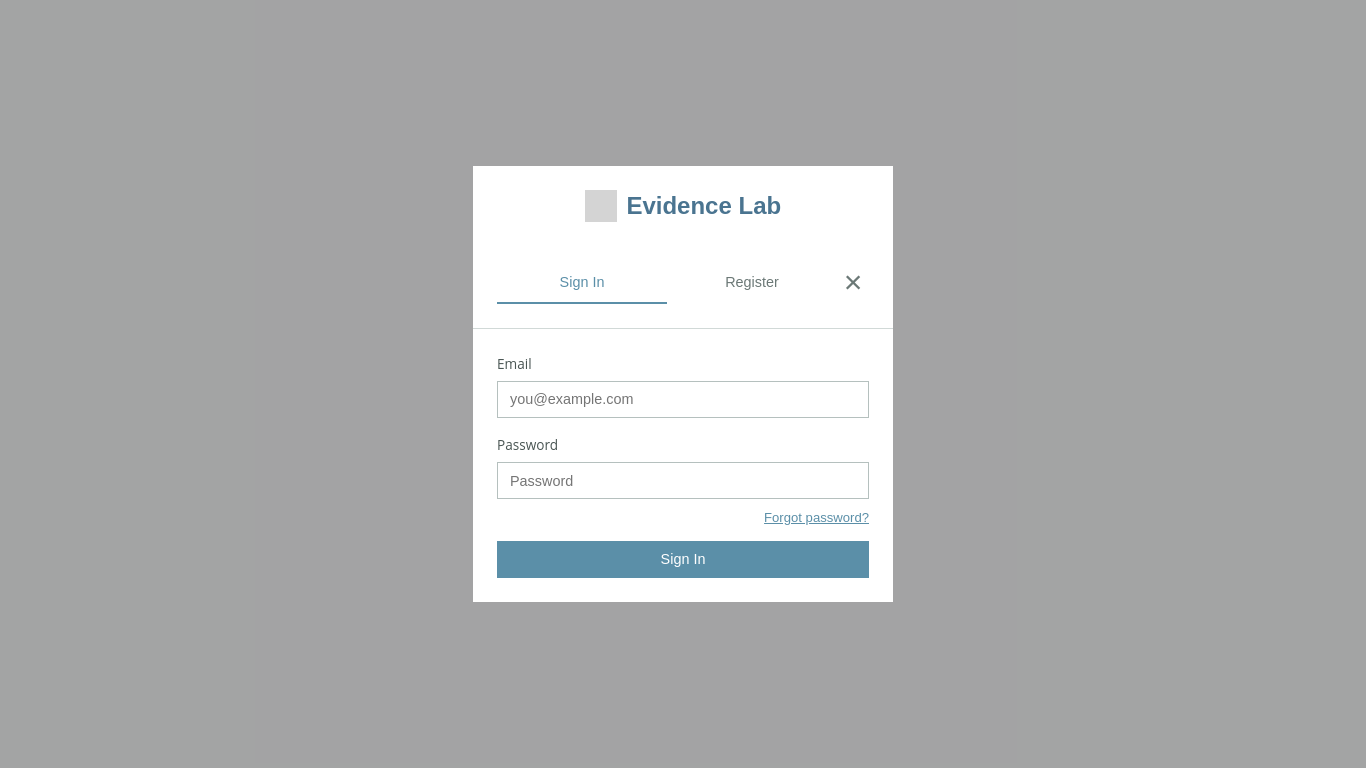
Test: LoginModal › shows name fields only on register tab
The width and height of the screenshot is (1366, 768).
Expected: the field labelled "First name" is not shown
Expected: the field labelled "Last name" is not shown
Click the button "Register". click: (752,283)
box: [667,262,837,304]
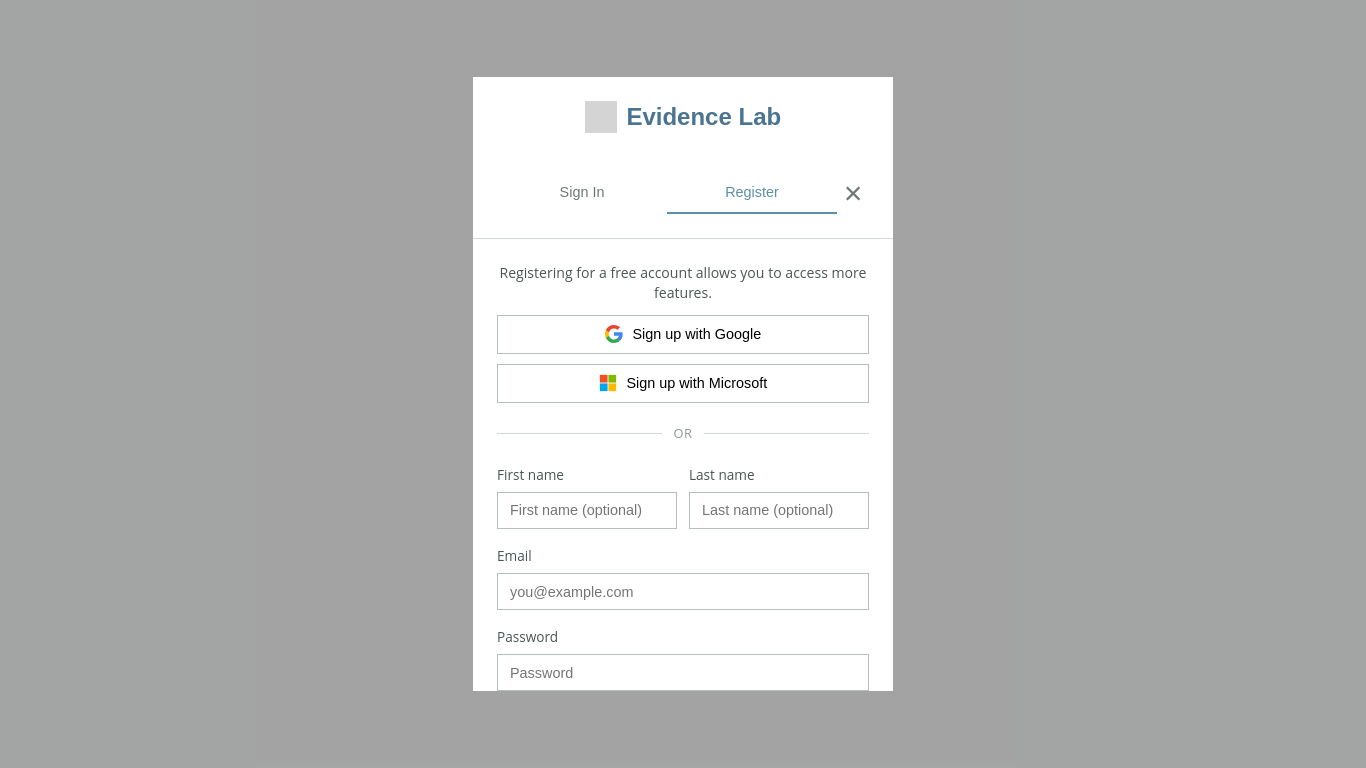
Expected: the field labelled "First name" is shown, [497,492,677,529]
Expected: the field labelled "Last name" is shown, [689,492,869,529]
